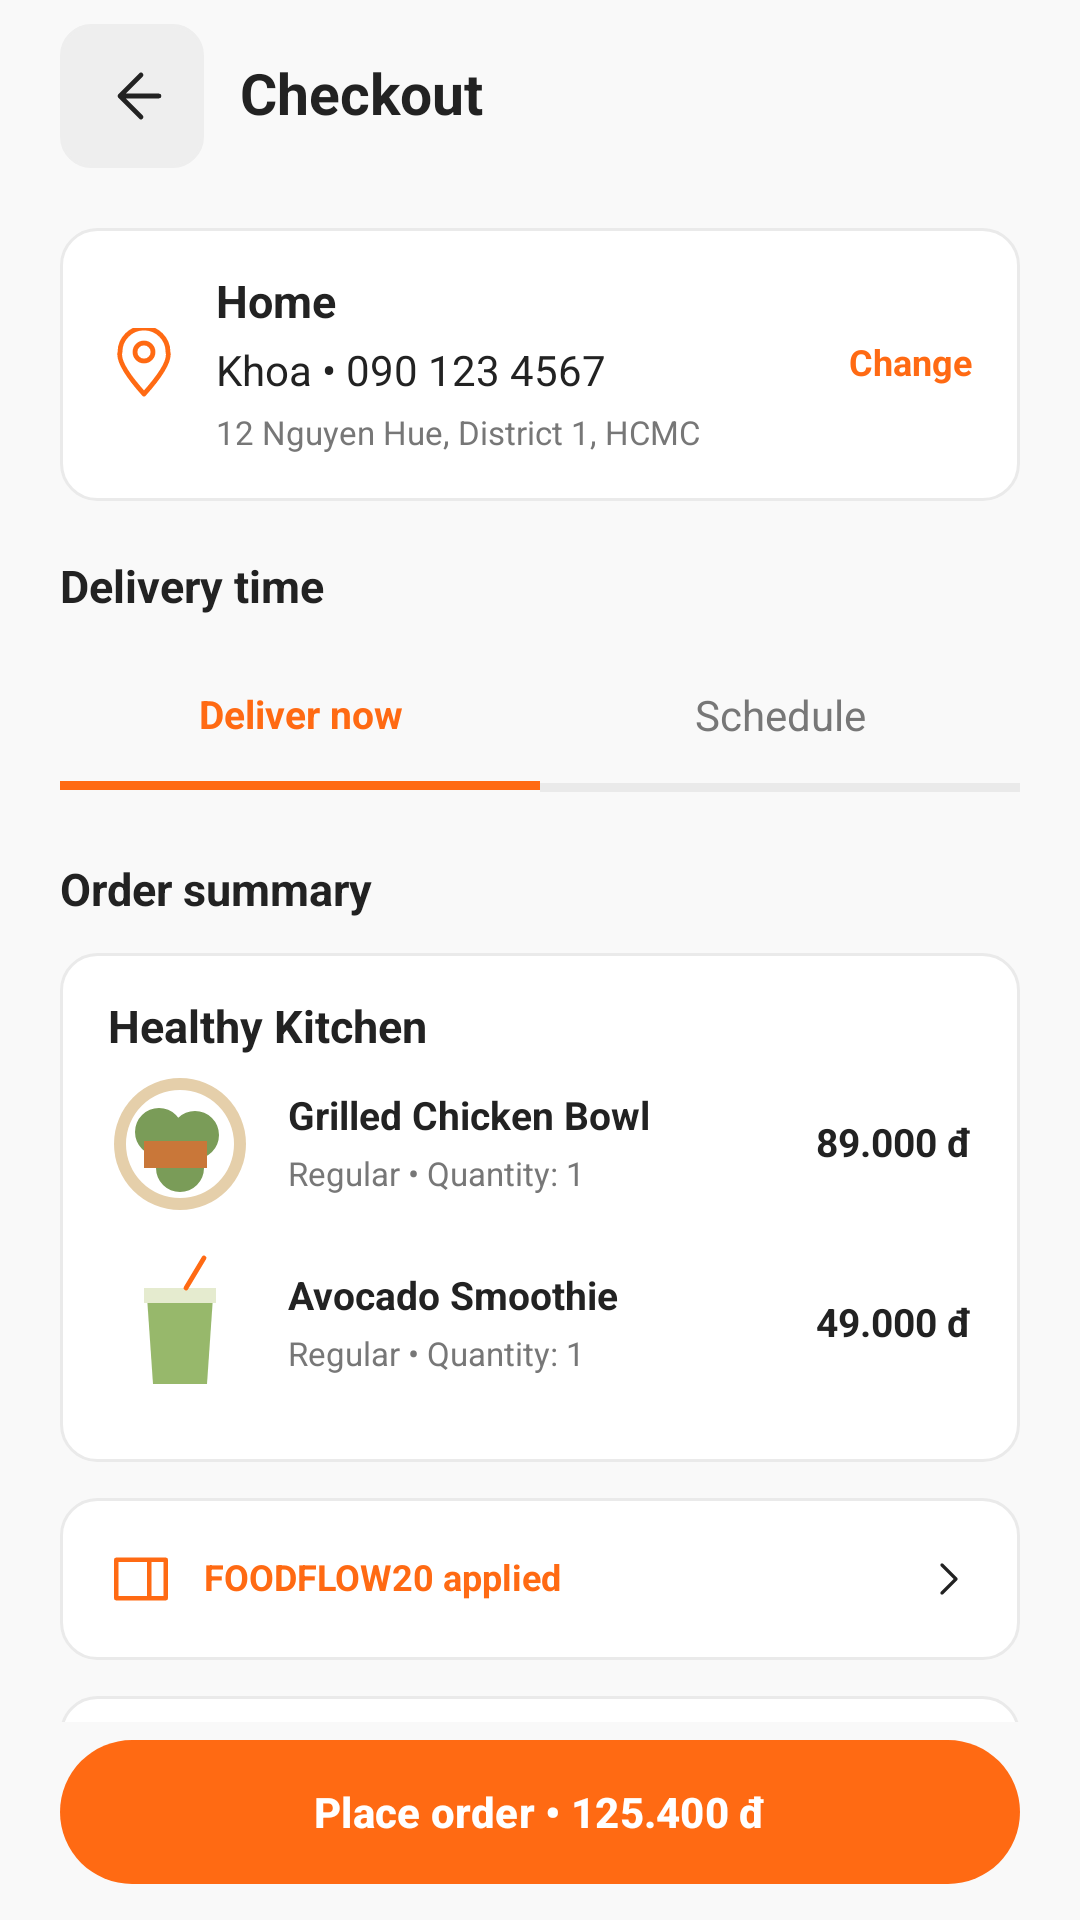

Screen size 1080w x 1920h. Icon name, then its box in pixels as region(x1, y1, x2, y2):
Back: region(60, 24, 204, 168)
tv bowl: region(114, 1078, 246, 1210)
tv chevron: region(940, 1563, 958, 1595)
tv pin: region(117, 328, 171, 397)
tv smoothie: region(144, 1255, 216, 1384)
tv ticket: region(114, 1557, 168, 1601)
